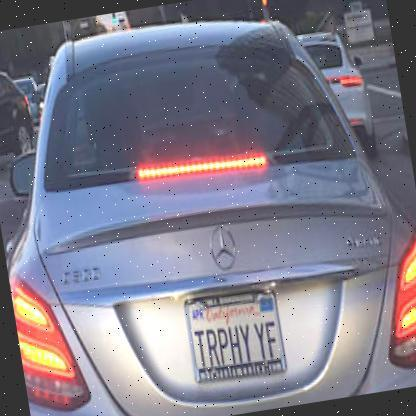License-Plate: (181, 275, 295, 397)
